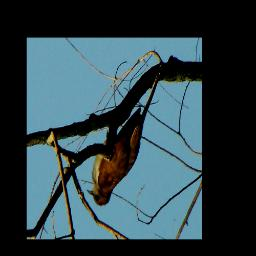Cuckoo: (87, 105, 143, 207)
